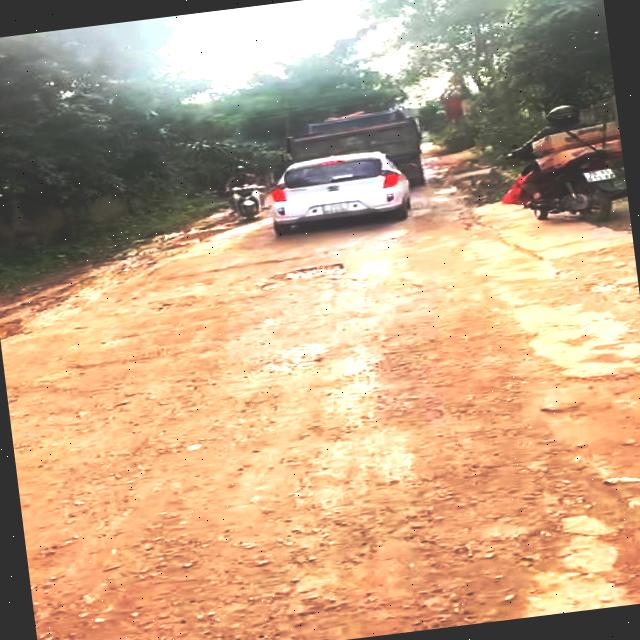pothole: (526, 357, 640, 613), (266, 260, 352, 286), (0, 308, 35, 349)
